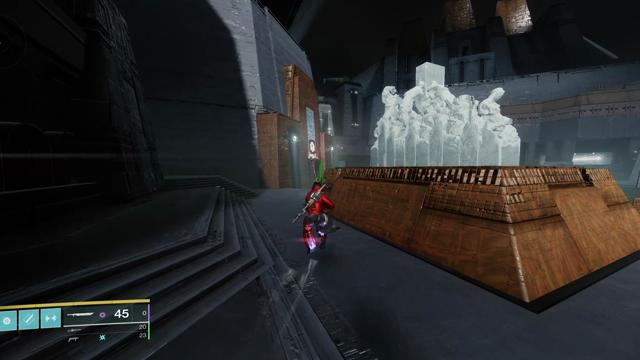worship: (310, 142, 315, 152)
